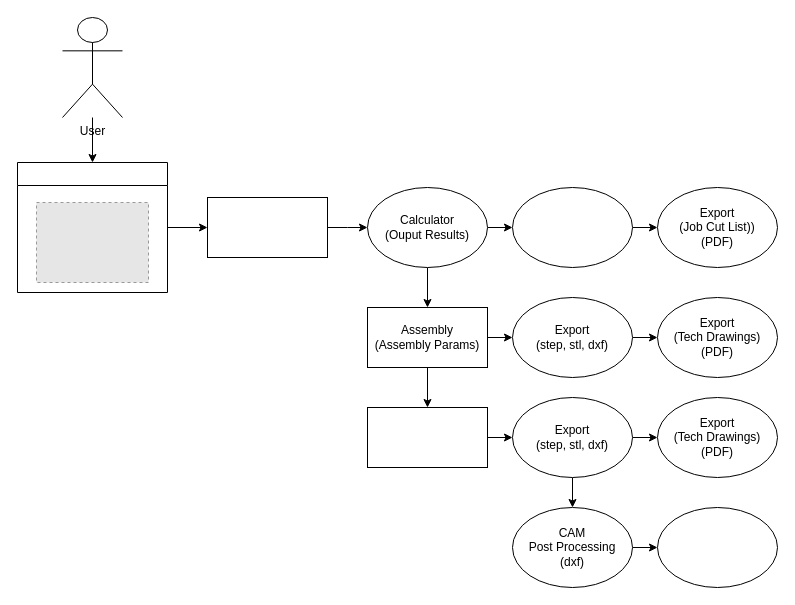
Image size: 795x605. Some labels were removed from this diagram. Grey dashed boxes stand in for pictures. Here are the shapes that lost their labels. From the top down, the box of each, then its label:
(16, 162, 168, 292): pyside6 (GUI)
(206, 196, 328, 258): Job (Job Input Params)
(512, 186, 632, 268): Save and Load (Job and Results)
(366, 406, 488, 468): Part (Part Params)
(656, 506, 778, 588): Export CAM Path (gcode)
